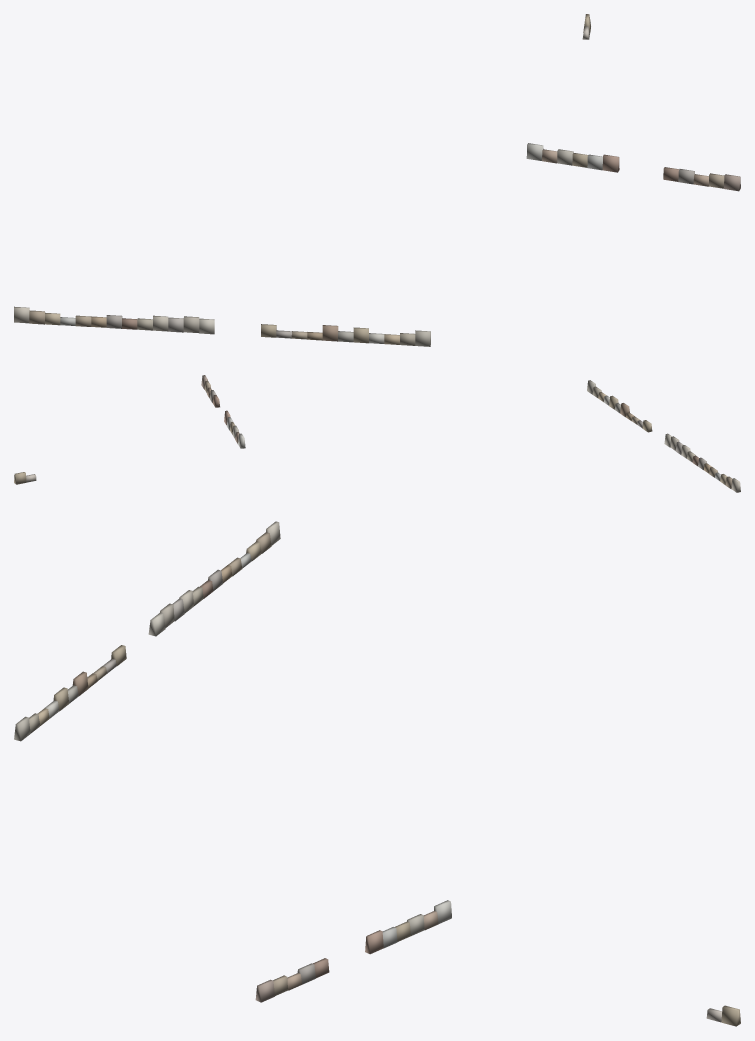
File: farm_13_11_collision.glb
The picture shows the model from 3 angles, top to bottom: view 1: azimuth 30°, elevation 25°; view 2: azimuth 150°, elevation 25°; view 3: azimuth 270°, elevation 25°; orthographic projection. The views are drawn at different scales.
Parts seen in each view (by area): view 1: geometry_0; view 2: geometry_0; view 3: geometry_0.
Boxes of the visible parts, <box> form: geometry_0: <box>14,14,740,346</box>; geometry_0: <box>14,375,740,492</box>; geometry_0: <box>14,521,740,1026</box>.
Size of the model in its own units: 89.54 by 5.75 by 61.32.
